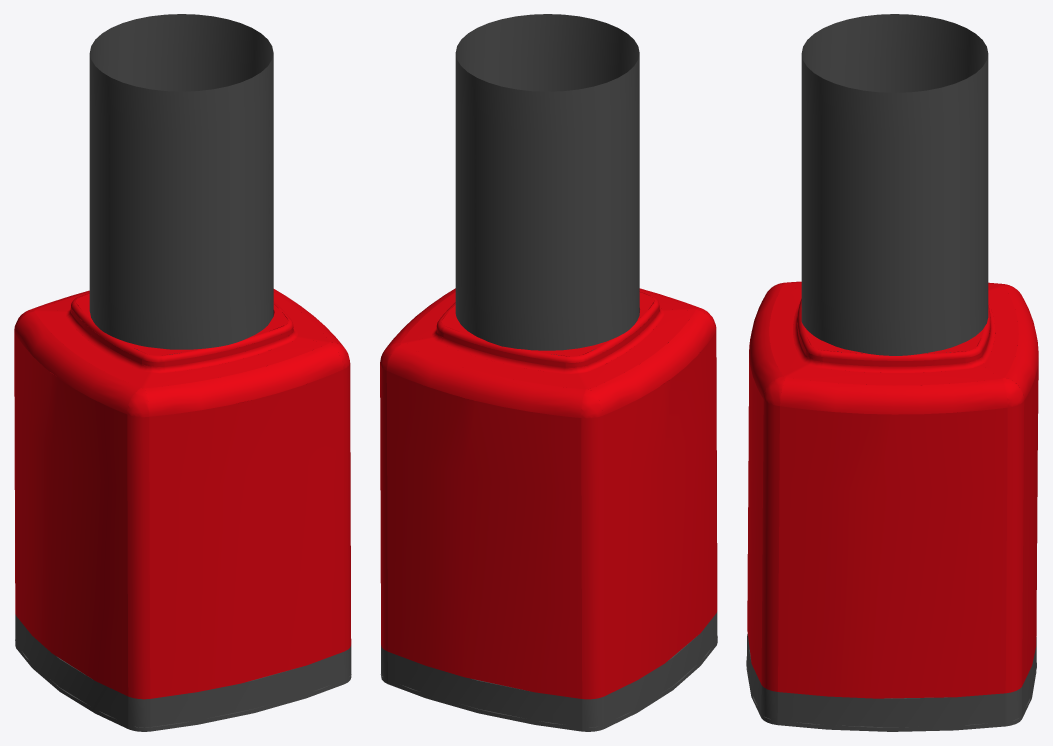
The model's file is lw-nail-polish.glb.
3 renders of one model, left to right at view 1: azimuth 30°, elevation 25°; view 2: azimuth 150°, elevation 25°; view 3: azimuth 270°, elevation 25°, orthographic.
Visible parts, largest first — view 1: lw-nail-polish-77, lw-nail-polish-67, lw-nail-polish-64, lw-nail-polish-75, lw-nail-polish-54, lw-nail-polish-59, lw-nail-polish-60, lw-nail-polish-72, lw-nail-polish-62, lw-nail-polish-63, lw-nail-polish-56, lw-nail-polish-27 (+6 smaller); view 2: lw-nail-polish-77, lw-nail-polish-65, lw-nail-polish-64, lw-nail-polish-73, lw-nail-polish-55, lw-nail-polish-61, lw-nail-polish-60, lw-nail-polish-72, lw-nail-polish-37, lw-nail-polish-63, lw-nail-polish-57, lw-nail-polish-41 (+6 smaller); view 3: lw-nail-polish-66, lw-nail-polish-77, lw-nail-polish-74, lw-nail-polish-58, lw-nail-polish-56, lw-nail-polish-57, lw-nail-polish-67, lw-nail-polish-65, lw-nail-polish-41, lw-nail-polish-62, lw-nail-polish-37, lw-nail-polish-59 (+8 smaller).
Part boxes in pixels (x1=…): lw-nail-polish-77: x1=89, y1=14, x2=273, y2=354; lw-nail-polish-67: x1=149, y1=370, x2=344, y2=698; lw-nail-polish-64: x1=15, y1=334, x2=128, y2=696; lw-nail-polish-75: x1=150, y1=652, x2=344, y2=731; lw-nail-polish-54: x1=127, y1=414, x2=150, y2=699; lw-nail-polish-59: x1=144, y1=343, x2=343, y2=416; lw-nail-polish-60: x1=15, y1=311, x2=140, y2=414; lw-nail-polish-72: x1=16, y1=616, x2=128, y2=728; lw-nail-polish-62: x1=145, y1=337, x2=328, y2=388; lw-nail-polish-63: x1=34, y1=311, x2=149, y2=387; lw-nail-polish-56: x1=343, y1=363, x2=351, y2=651; lw-nail-polish-27: x1=164, y1=337, x2=289, y2=372; lw-nail-polish-77: x1=455, y1=14, x2=639, y2=355; lw-nail-polish-65: x1=386, y1=371, x2=582, y2=698; lw-nail-polish-64: x1=603, y1=332, x2=716, y2=696; lw-nail-polish-73: x1=387, y1=652, x2=582, y2=731; lw-nail-polish-55: x1=581, y1=415, x2=604, y2=699; lw-nail-polish-61: x1=386, y1=344, x2=585, y2=417; lw-nail-polish-60: x1=589, y1=310, x2=715, y2=415; lw-nail-polish-72: x1=604, y1=613, x2=716, y2=728; lw-nail-polish-37: x1=401, y1=338, x2=585, y2=389; lw-nail-polish-63: x1=580, y1=309, x2=695, y2=388; lw-nail-polish-57: x1=380, y1=364, x2=387, y2=651; lw-nail-polish-41: x1=400, y1=292, x2=455, y2=342; lw-nail-polish-66: x1=778, y1=406, x2=1007, y2=698; lw-nail-polish-77: x1=801, y1=14, x2=988, y2=355; lw-nail-polish-74: x1=777, y1=692, x2=1005, y2=731; lw-nail-polish-58: x1=780, y1=377, x2=1007, y2=414; lw-nail-polish-56: x1=761, y1=399, x2=779, y2=691; lw-nail-polish-57: x1=1005, y1=401, x2=1024, y2=693; lw-nail-polish-67: x1=747, y1=345, x2=763, y2=684; lw-nail-polish-65: x1=1022, y1=358, x2=1038, y2=686; lw-nail-polish-41: x1=786, y1=365, x2=1001, y2=385; lw-nail-polish-62: x1=769, y1=285, x2=806, y2=375; lw-nail-polish-37: x1=981, y1=286, x2=1018, y2=377; lw-nail-polish-59: x1=749, y1=285, x2=782, y2=398.
Bounding box in the file's own units: 0.4264 × 1 × 0.4289.
